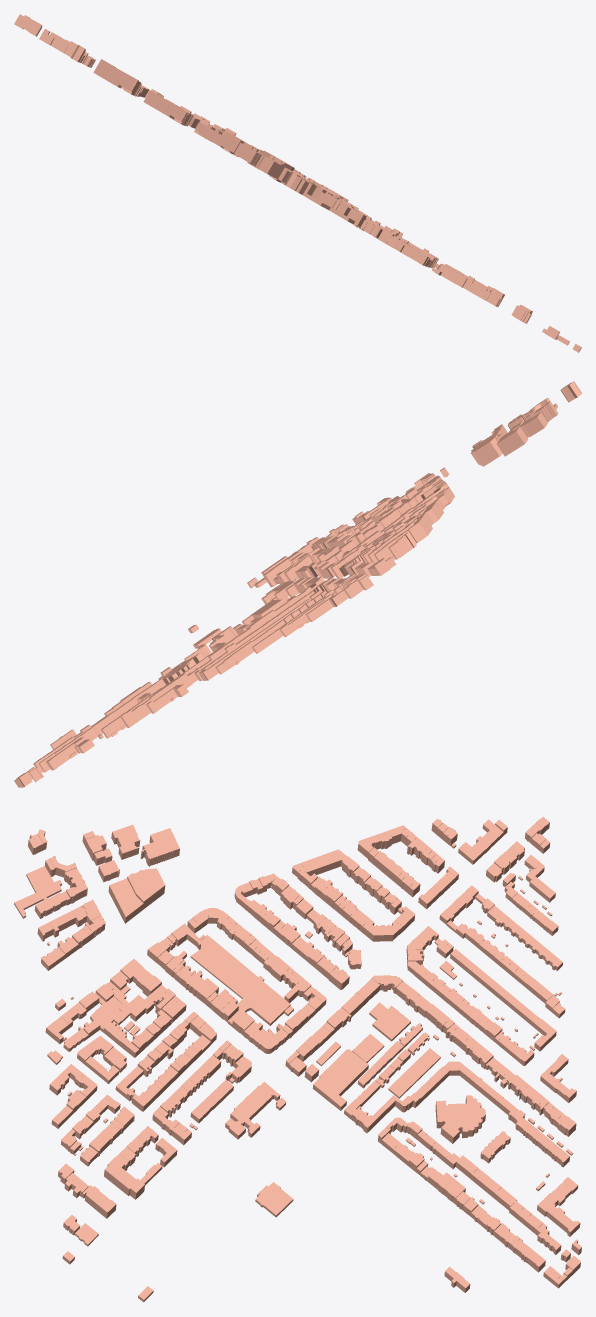
The picture shows the model from 3 angles, top to bottom: view 1: azimuth 30°, elevation 25°; view 2: azimuth 150°, elevation 25°; view 3: azimuth 270°, elevation 25°; orthographic projection. The views are drawn at different scales.
Size of the model in its own units: 523 by 391 by 657.
